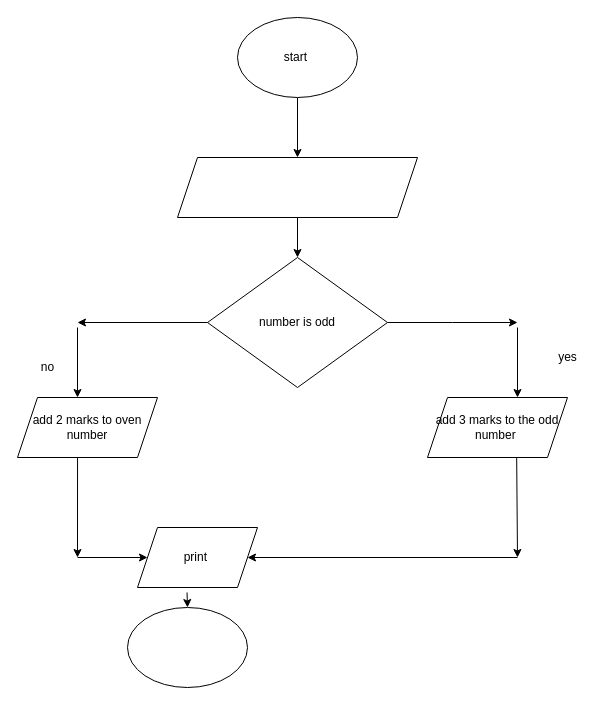
This 605x705 diagram has some shape labels left out. The centre of each missing label's shape, as x and y in pixels:
"end" belongs at pixel 187 647.
"input number" belongs at pixel 297 187.
